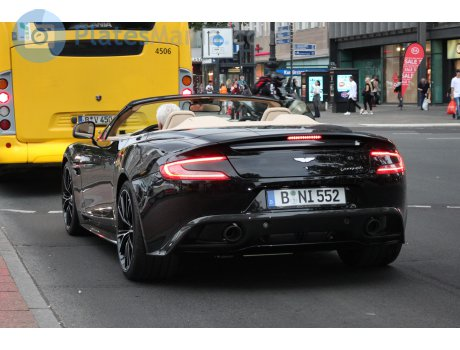License Plates: (272, 188, 347, 205)
